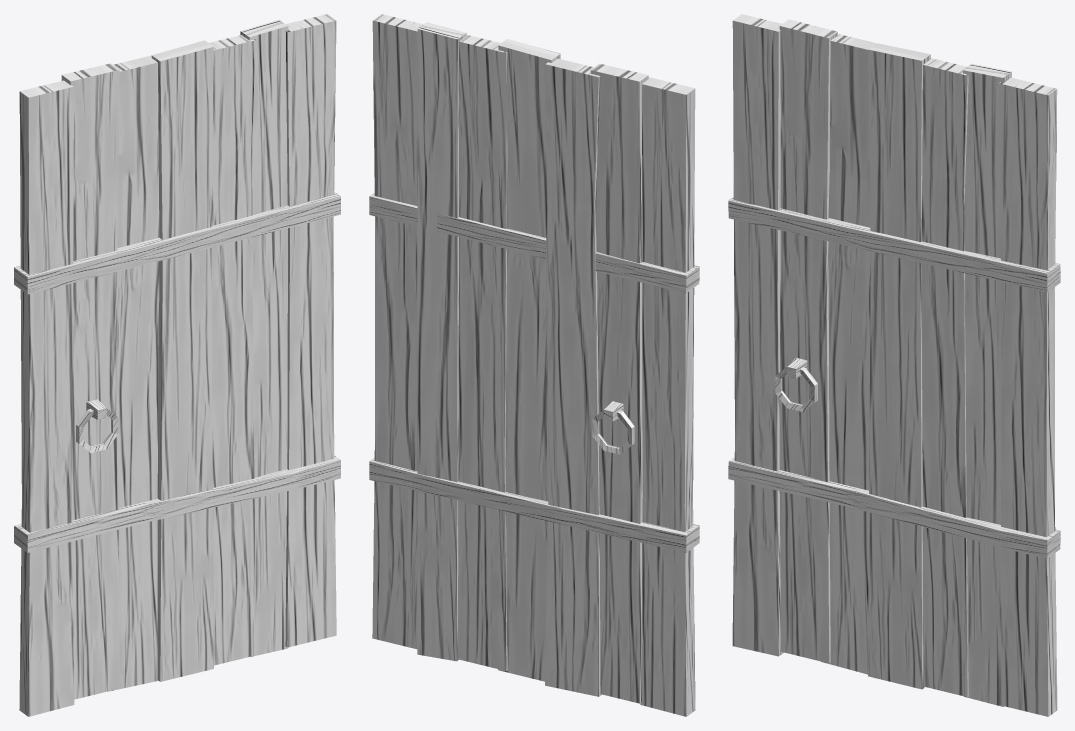
File: ARC0110028.fbx
3 renders of one model, left to right at view 1: azimuth 30°, elevation 25°; view 2: azimuth 150°, elevation 25°; view 3: azimuth 330°, elevation 25°, orthographic.
Visible parts, largest first — view 1: smARC0110028; view 2: smARC0110028; view 3: smARC0110028.
Part boxes in pixels (x1,y1,x2,y2): smARC0110028: (14,14,340,716); smARC0110028: (369,14,699,716); smARC0110028: (728,14,1060,716).
Size of the model in its own units: 129 by 245 by 20.14.
1 material, 1 textured.
